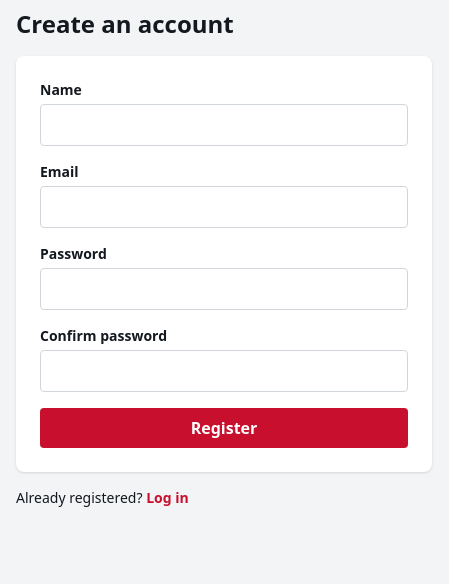
Test: forms › registration shows server errors
Type "Ann" into the field labelled "Name" at point(224, 125), box [40,104,408,146]
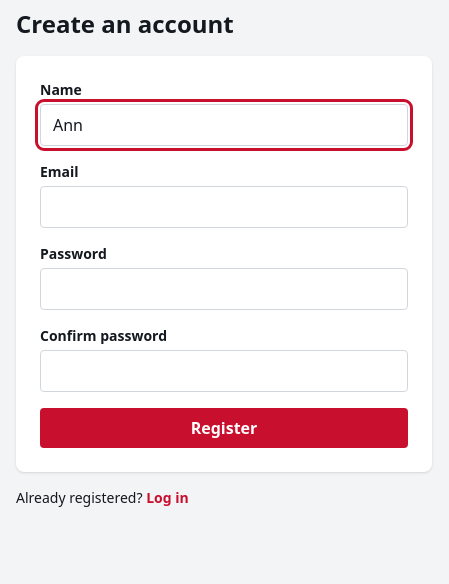
Type "a@b.co" into the field labelled "Email" at point(224, 207), box [40,186,408,228]
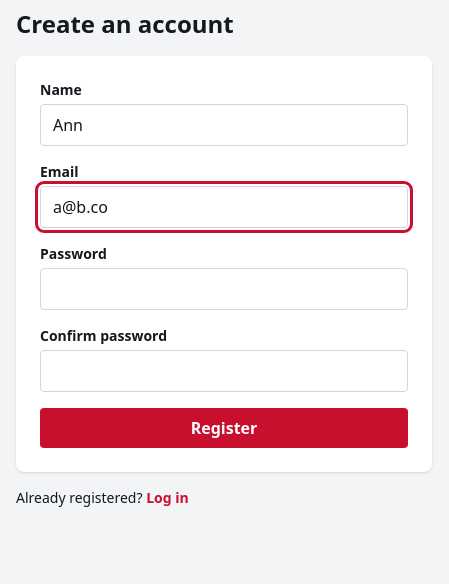
Type "password1" into the password field labelled "Password" at point(224, 289), box [40,268,408,310]
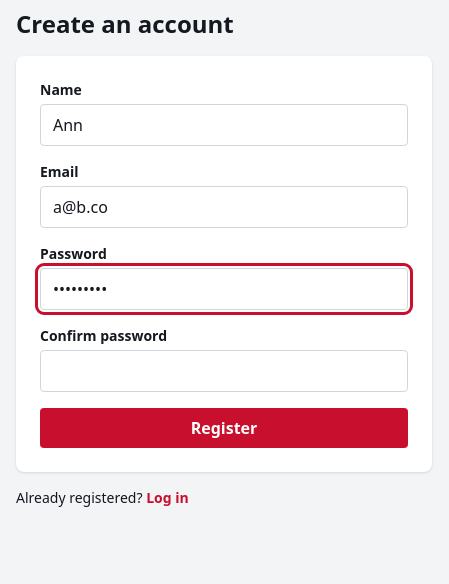
Type "password1" into the password field labelled "Confirm password" at point(224, 371), box [40,350,408,392]
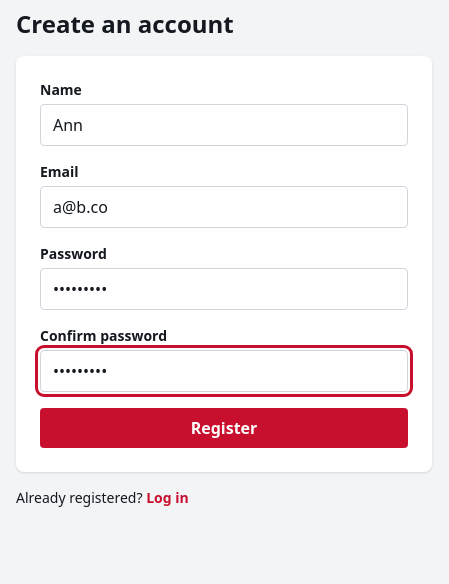
Click the button "Register" at point(224, 428), box [40,408,408,448]
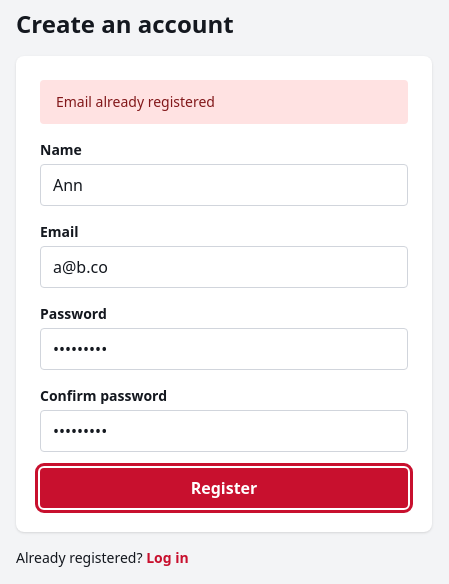
Expected: the message reads "Email already registered", [56,92,215,111]
